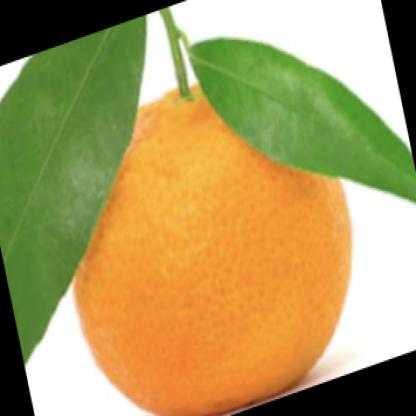orange: (30, 63, 362, 416)
